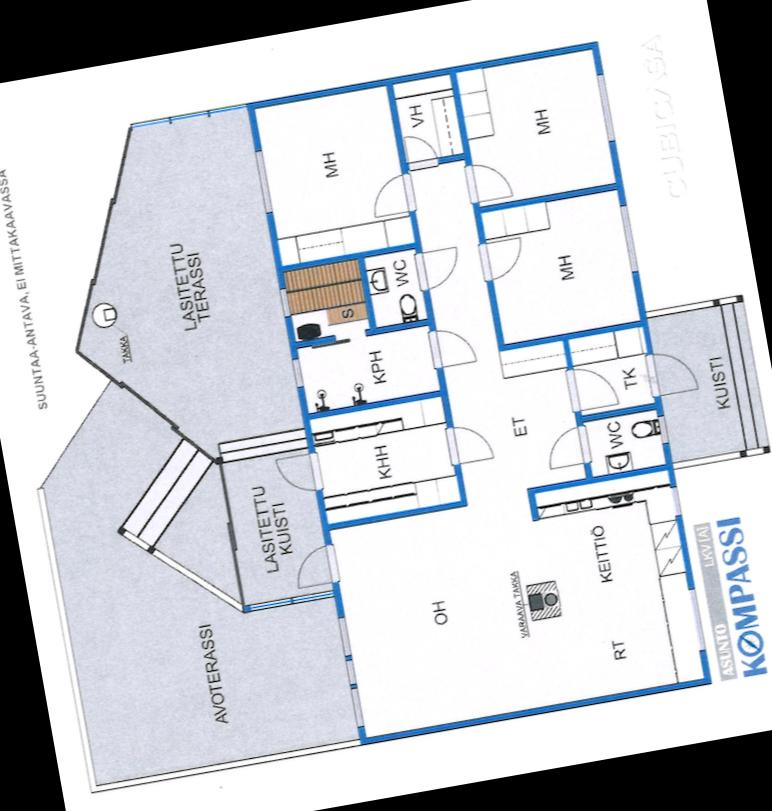door: (405, 235, 465, 294), (560, 359, 621, 415), (458, 150, 516, 208), (286, 535, 343, 594), (641, 344, 701, 399), (440, 413, 496, 469), (472, 232, 530, 286), (364, 170, 422, 223), (539, 421, 594, 475), (421, 323, 476, 376), (273, 446, 324, 500), (397, 126, 443, 173)
window: (586, 68, 620, 148), (612, 196, 644, 278), (250, 142, 280, 216), (680, 580, 708, 655), (344, 682, 370, 735), (330, 611, 356, 660), (202, 95, 254, 119), (124, 107, 170, 132), (288, 584, 335, 608), (244, 593, 293, 616), (665, 477, 686, 521), (165, 104, 208, 125), (286, 356, 306, 394), (274, 283, 293, 321), (339, 655, 360, 688)
